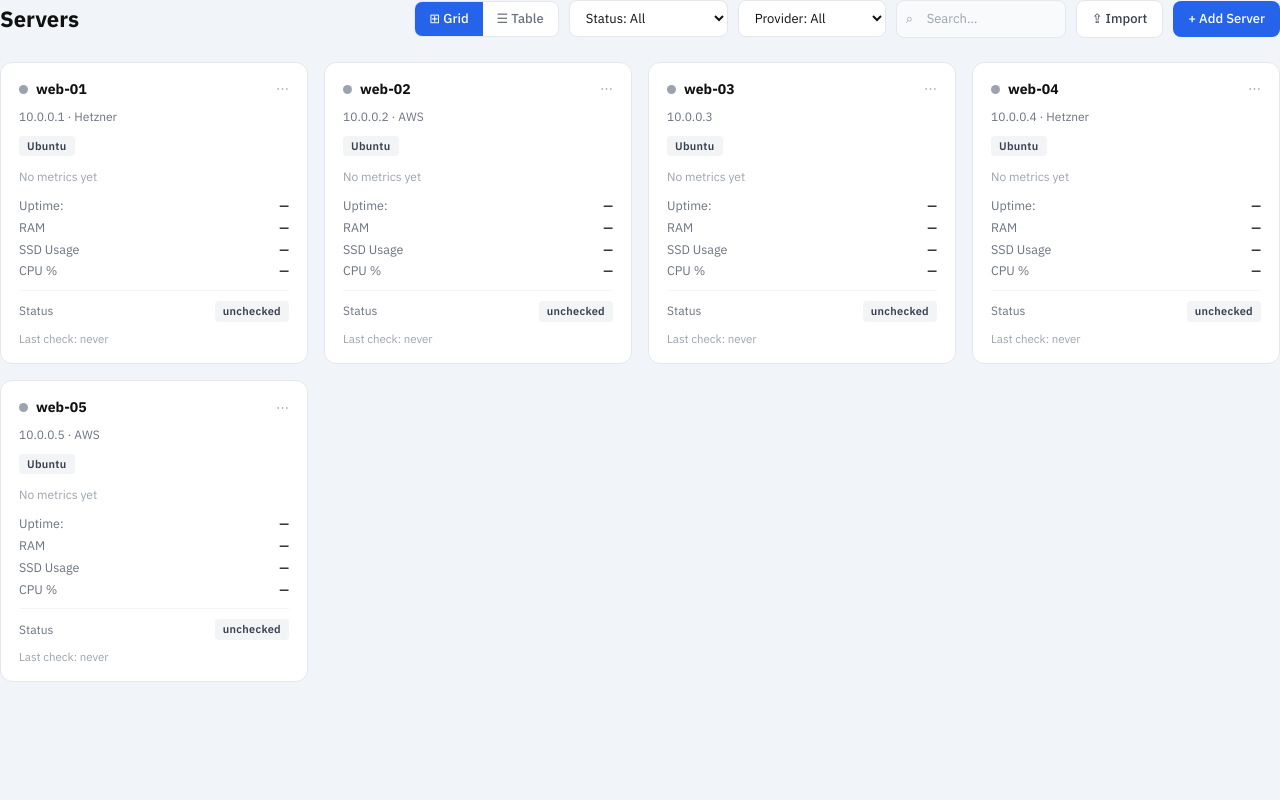
Scenario: AddServerModal — поле провайдера › подсказывает уже введённых провайдеров
The image size is (1280, 800).
What coordinates should you click on to do the following:
click the button "+ Add Server"
I would click on:
 (1227, 19)
Its box is [1173, 1, 1279, 36].
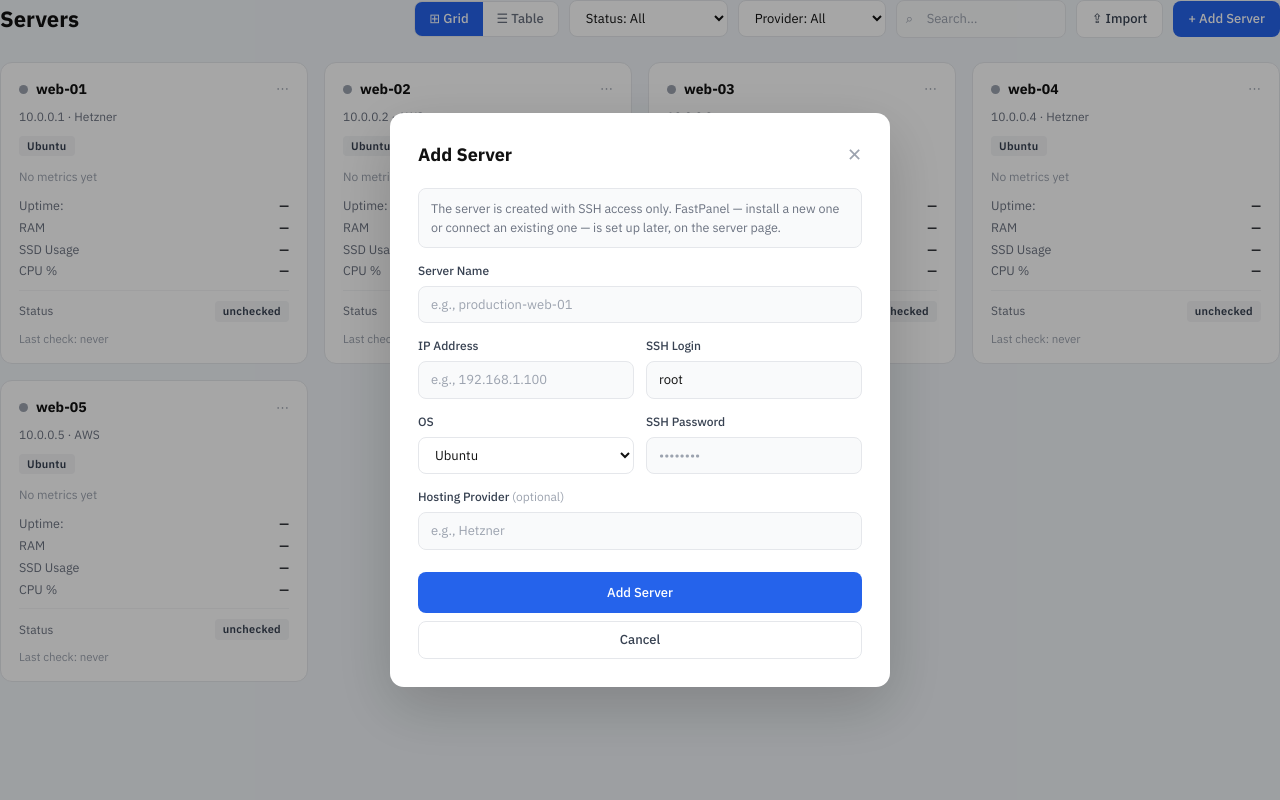
Check: the field with placeholder "e.g., production-web-01" is shown, box [418, 286, 862, 323]
